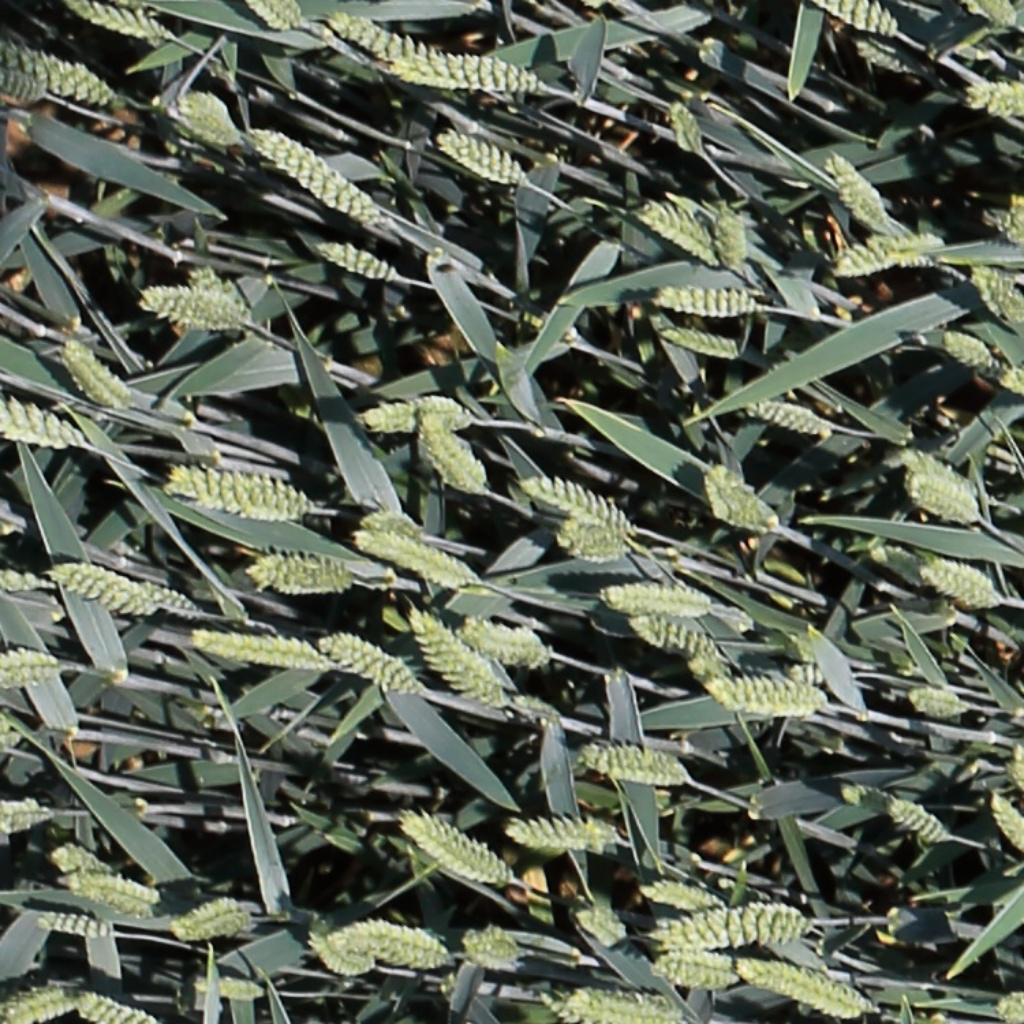0-0: (244, 124, 378, 222), (165, 458, 324, 527), (400, 805, 517, 896), (49, 837, 164, 919), (738, 959, 885, 1023), (645, 901, 809, 952), (352, 532, 489, 589), (839, 777, 948, 845), (0, 43, 113, 105), (406, 611, 495, 689), (389, 49, 548, 92), (314, 634, 419, 696), (518, 475, 628, 532), (413, 641, 503, 709), (50, 562, 162, 615), (412, 413, 484, 494), (329, 10, 435, 64), (820, 146, 890, 226), (357, 387, 468, 434), (57, 337, 128, 409), (185, 633, 326, 669), (139, 281, 244, 329), (574, 743, 694, 785), (333, 921, 444, 965), (434, 128, 524, 182), (498, 815, 633, 851), (636, 202, 716, 262), (833, 234, 944, 277), (706, 677, 833, 714), (65, 0, 169, 45), (166, 899, 266, 945), (625, 617, 722, 664), (0, 973, 91, 1023), (701, 464, 767, 531), (242, 554, 352, 594), (650, 283, 761, 321), (185, 257, 248, 323), (598, 585, 721, 618), (968, 259, 1024, 326), (562, 993, 683, 1024), (472, 624, 559, 665), (135, 576, 204, 626), (554, 521, 628, 567), (905, 476, 978, 522), (897, 449, 974, 492), (1, 402, 81, 443), (188, 965, 270, 1005), (312, 240, 395, 279), (651, 950, 738, 987), (304, 927, 371, 974), (984, 791, 1024, 866), (921, 562, 992, 604), (0, 646, 64, 692), (662, 90, 705, 158), (72, 993, 169, 1023), (744, 400, 828, 434), (460, 929, 522, 970), (819, 1, 895, 34), (174, 99, 234, 140), (714, 199, 746, 275), (660, 327, 740, 357), (0, 59, 52, 105), (686, 644, 730, 695), (942, 330, 996, 371), (246, 0, 313, 33), (636, 886, 719, 912), (31, 911, 113, 937), (0, 798, 58, 834), (854, 39, 910, 73), (572, 912, 626, 946), (536, 991, 591, 1022), (987, 207, 1024, 249), (906, 690, 966, 715), (1007, 761, 1024, 828), (980, 1, 1018, 28), (1011, 744, 1024, 808), (969, 91, 1024, 106), (998, 990, 1024, 1019), (1002, 371, 1024, 395)
